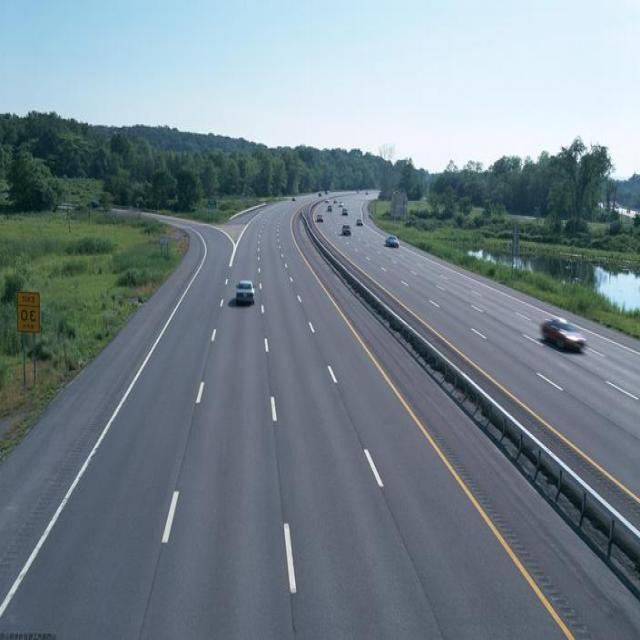point: (349, 170, 385, 208)
